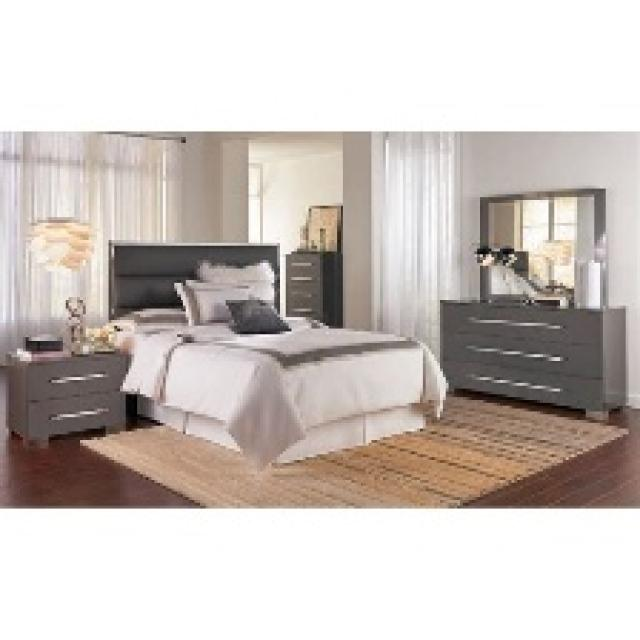Bed: (106, 237, 446, 469)
